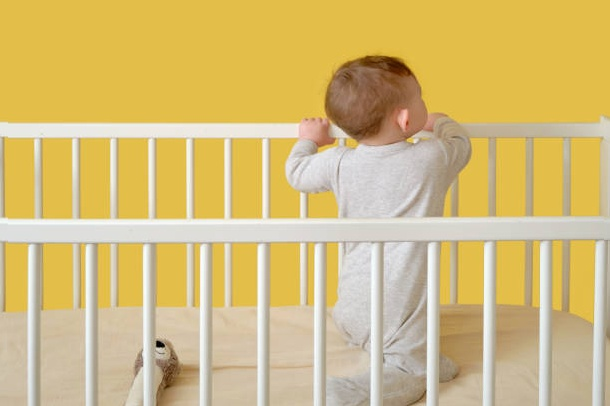baby: (285, 56, 470, 217)
crib: (0, 118, 609, 404)
